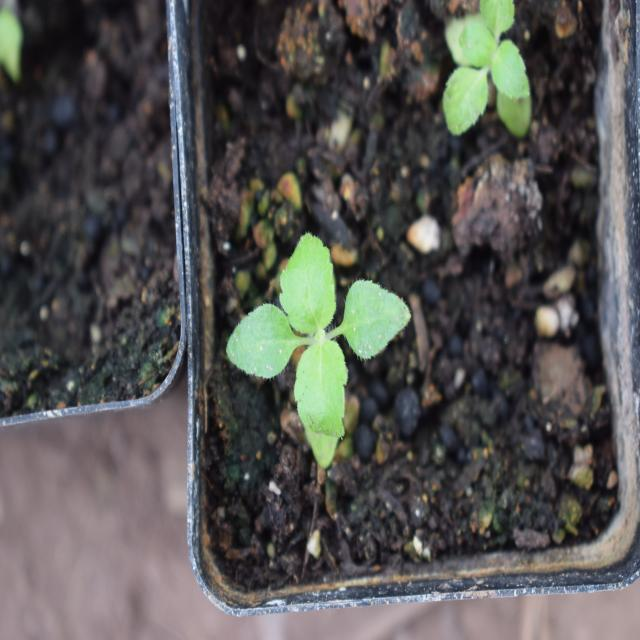billygoat_weed: (225, 231, 411, 454)
